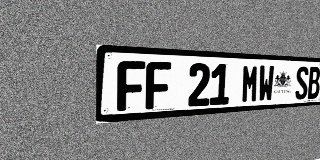1: (210, 63, 230, 105)
2: (188, 63, 210, 107)
B: (308, 67, 320, 99)
F: (117, 60, 145, 111), (145, 61, 171, 110)
M: (241, 65, 259, 103)
S: (295, 66, 309, 100)
W: (258, 65, 274, 102)
